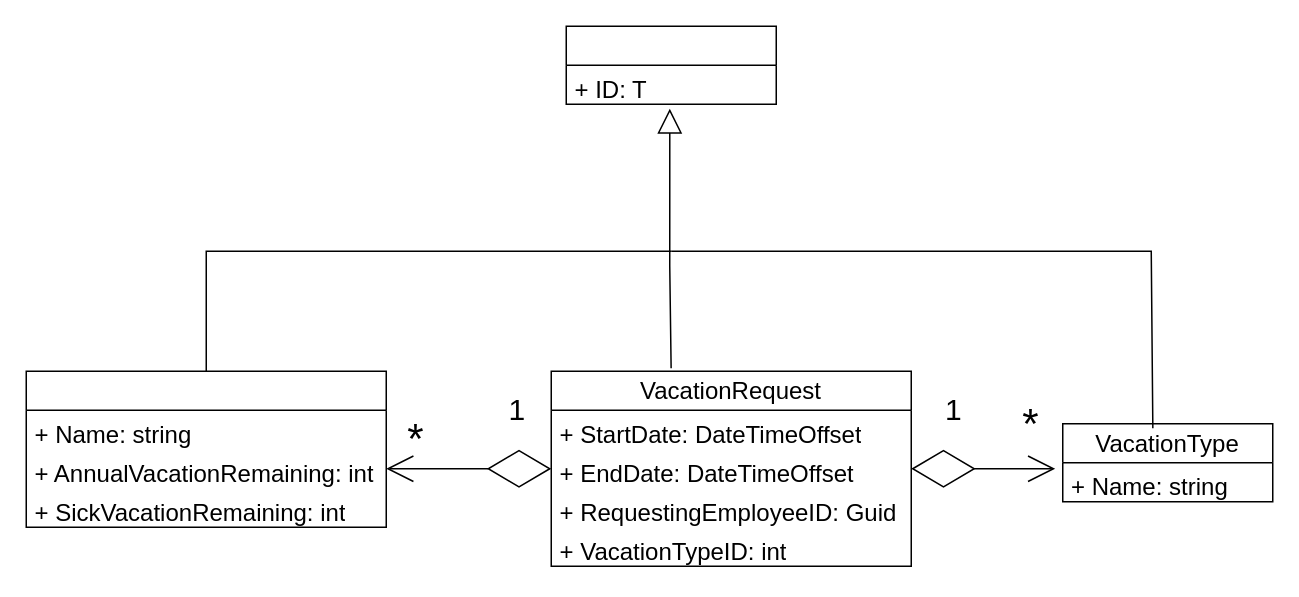
The diagram is 1299 pixels wide and 597 high, and some of its shapes have lost their labels. Here are the shapes that lost their labels. From the top down, the box of each, then its label:
(565, 25, 776, 104): BaseEntity<T>
(25, 370, 386, 527): Employee
